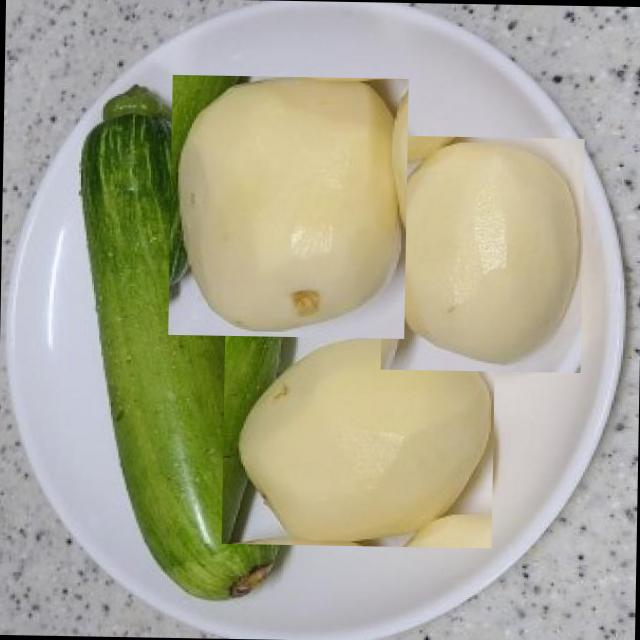Potato: (168, 74, 408, 338), (221, 326, 495, 547), (380, 134, 584, 372)
